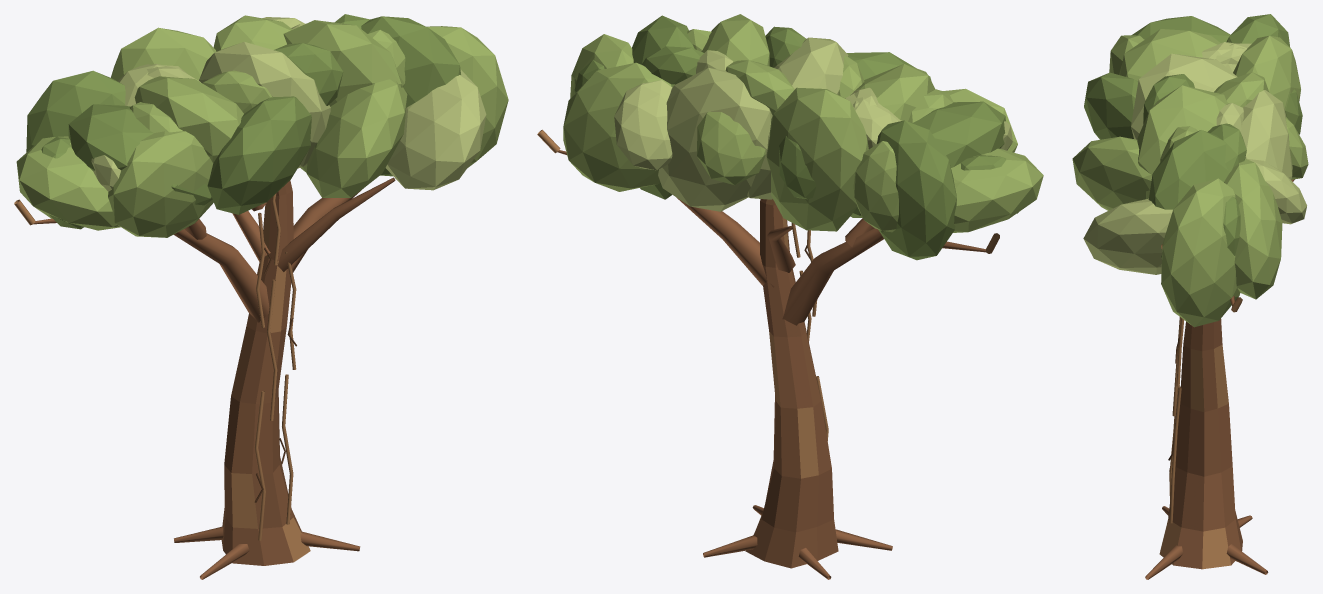
The model's file is a01_acacia_tree.glb.
3 views of the same model, side by side, from view 1: azimuth 30°, elevation 25°; view 2: azimuth 150°, elevation 25°; view 3: azimuth 270°, elevation 25° (orthographic). The views are drawn at different scales.
Visible parts, largest first — view 1: A01_Main_Trunk, A01_Canopy_Clump_12, A01_Canopy_Clump_13, A01_Canopy_Clump_14, A01_Canopy_Clump_15, A01_Canopy_Clump_01, A01_Canopy_Clump_03, A01_Canopy_Clump_04, A01_Canopy_Clump_05, A01_Canopy_Clump_02, A01_Canopy_Clump_06, A01_Canopy_Clump_08 (+16 smaller); view 2: A01_Main_Trunk, A01_Canopy_Clump_09, A01_Canopy_Clump_10, A01_Canopy_Clump_08, A01_Canopy_Clump_11, A01_Canopy_Clump_01, A01_Canopy_Fill_14, A01_Canopy_Clump_02, A01_Canopy_Fill_13, A01_Canopy_Clump_04, A01_Canopy_Fill_11, A01_Branch_01 (+15 smaller); view 3: A01_Main_Trunk, A01_Canopy_Clump_07, A01_Canopy_Clump_11, A01_Canopy_Clump_15, A01_Canopy_Clump_14, A01_Canopy_Clump_06, A01_Canopy_Clump_05, A01_Canopy_Clump_10, A01_Canopy_Clump_13, A01_Canopy_Clump_09, A01_Canopy_Clump_04, A01_Canopy_Clump_03 (+17 smaller).
Part boxes in pixels (left/top/right/bottom): A01_Main_Trunk: left=221, top=180, right=310, bottom=565; A01_Canopy_Clump_12: left=108, top=131, right=213, bottom=237; A01_Canopy_Clump_13: left=207, top=96, right=311, bottom=214; A01_Canopy_Clump_14: left=306, top=79, right=407, bottom=197; A01_Canopy_Clump_15: left=385, top=69, right=486, bottom=190; A01_Canopy_Clump_01: left=16, top=136, right=120, bottom=230; A01_Canopy_Clump_03: left=134, top=76, right=243, bottom=162; A01_Canopy_Clump_04: left=199, top=41, right=330, bottom=168; A01_Canopy_Clump_05: left=283, top=20, right=402, bottom=172; A01_Canopy_Clump_02: left=68, top=104, right=212, bottom=205; A01_Canopy_Clump_06: left=361, top=16, right=460, bottom=176; A01_Canopy_Clump_08: left=26, top=70, right=125, bottom=152; A01_Main_Trunk: left=745, top=199, right=838, bottom=568; A01_Canopy_Clump_09: left=766, top=87, right=868, bottom=231; A01_Canopy_Clump_10: left=658, top=67, right=772, bottom=211; A01_Canopy_Clump_08: left=876, top=120, right=956, bottom=260; A01_Canopy_Clump_11: left=563, top=62, right=671, bottom=191; A01_Canopy_Clump_01: left=951, top=148, right=1043, bottom=232; A01_Canopy_Fill_14: left=614, top=80, right=672, bottom=170; A01_Canopy_Clump_02: left=850, top=101, right=1005, bottom=217; A01_Canopy_Fill_13: left=697, top=111, right=766, bottom=185; A01_Canopy_Clump_04: left=747, top=37, right=848, bottom=199; A01_Canopy_Fill_11: left=853, top=141, right=898, bottom=232; A01_Branch_01: left=782, top=228, right=883, bottom=325; A01_Main_Trunk: left=1159, top=319, right=1242, bottom=569; A01_Canopy_Clump_07: left=1161, top=178, right=1240, bottom=327; A01_Canopy_Clump_11: left=1224, top=158, right=1282, bottom=299; A01_Canopy_Clump_15: left=1083, top=198, right=1172, bottom=274; A01_Canopy_Clump_14: left=1072, top=136, right=1151, bottom=210; A01_Canopy_Clump_06: left=1148, top=130, right=1228, bottom=258; A01_Canopy_Clump_05: left=1137, top=85, right=1228, bottom=198; A01_Canopy_Clump_10: left=1240, top=90, right=1292, bottom=180; A01_Canopy_Clump_13: left=1084, top=72, right=1138, bottom=139; A01_Canopy_Clump_09: left=1233, top=35, right=1300, bottom=109; A01_Canopy_Clump_04: left=1131, top=53, right=1237, bottom=139; A01_Canopy_Clump_03: left=1120, top=29, right=1220, bottom=81.
Bounding box in the file's own units: 5.26 × 5.37 × 2.35.
